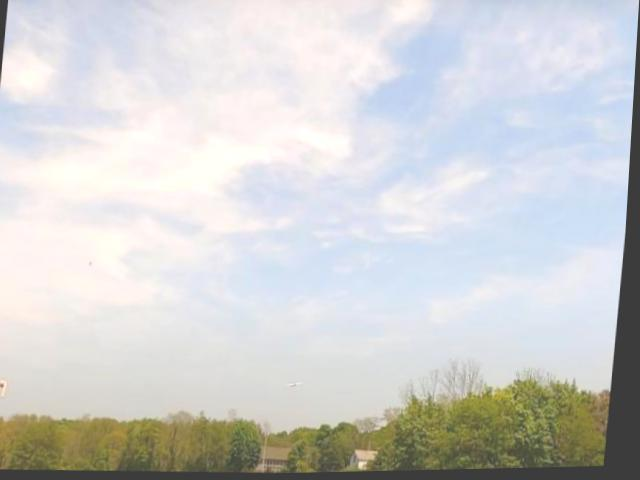iha: (282, 378, 314, 393)
